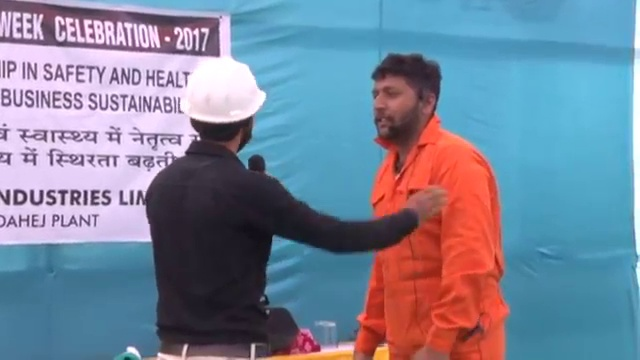helmet: (178, 57, 268, 123)
helmet_off: (370, 51, 442, 144)
helmet_on: (178, 57, 268, 159)
person: (144, 59, 438, 360), (350, 49, 506, 360)
